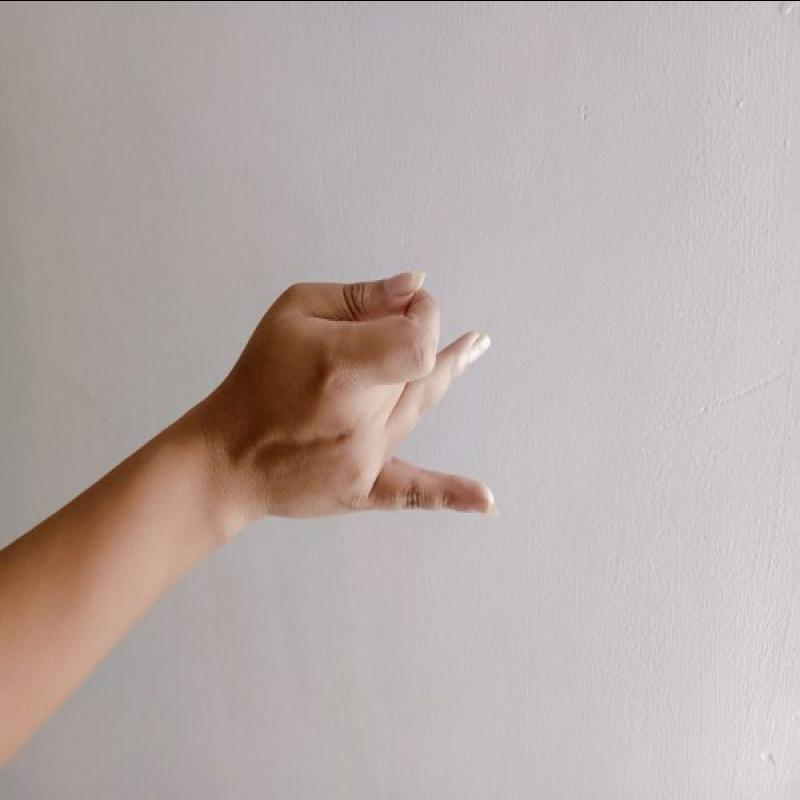Katakam: (223, 251, 509, 536)
